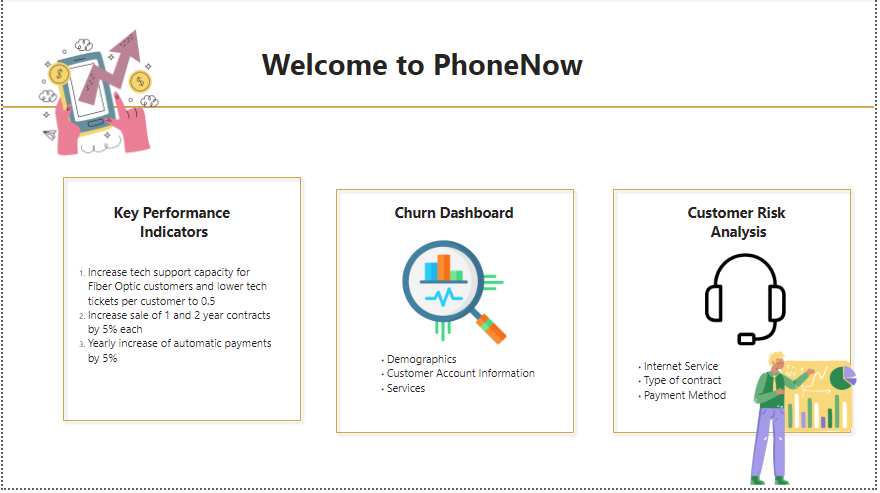

The page's visual inventory and layout, read from the dashboard file:
{"tool":"powerbi","page":{"name":"Page 1","canvas":[1280,720],"ordinal":0},"visuals":[{"type":"textbox","box":[374.2,62.2,495.7,70],"z":0},{"type":"shape","box":[0,147.7,1280,23.3],"z":1000},{"type":"shape","box":[79.3,254.2,367.3,376.2],"z":2000},{"type":"shape","box":[480.6,272.2,367.1,376],"z":3000},{"type":"shape","box":[887.6,272.2,367.1,376],"z":4000},{"type":"textbox","box":[140.1,295.3,222.6,70.9],"z":5000},{"type":"textbox","box":[102,385.7,299.7,195.1],"z":6000},{"type":"textbox","box":[570.1,295.3,201.3,47.9],"z":7000},{"type":"textbox","box":[540,514.3,262.5,102.9],"z":8000},{"type":"image","box":[582.6,351.1,163.2,163.2],"z":9000},{"type":"textbox","box":[944.3,295.3,271.3,79.8],"z":10000},{"type":"textbox","box":[918.6,524,183.5,83.3],"z":11000},{"type":"image","box":[1017.9,369.8,144.5,144.5],"z":12000},{"type":"image","box":[1071.1,514.3,209.3,205.7],"z":13000},{"type":"image","box":[40.8,41.7,198.6,195.1],"z":14000}]}

Visuals, with their boxes in screenshot pixels (x1, y1, x2, y2), scaled from the page's 1280x720 canvas onto the 880x493 screenshot:
textbox: 257,43,598,91
shape: 0,101,879,117
shape: 55,174,307,432
shape: 330,186,583,444
shape: 610,186,863,444
textbox: 96,202,249,251
textbox: 70,264,276,398
textbox: 392,202,530,235
textbox: 371,352,552,423
image: 401,240,513,352
textbox: 649,202,836,257
textbox: 632,359,758,416
image: 700,253,799,352
image: 736,352,879,492
image: 28,29,165,162
